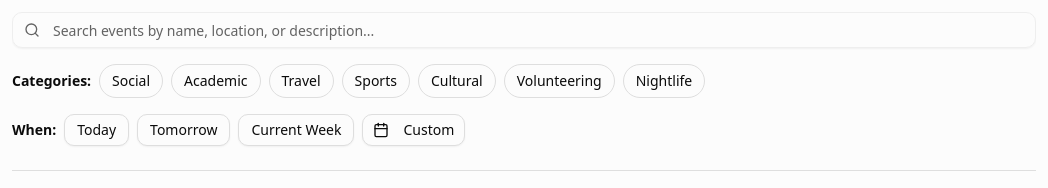
Scenario: EventFilters › Clear All Button › should clear search input after reset
Type "test" into the field with placeholder "Search events by name, location, or description..." at coordinates (524, 30), box [12,12,1036,48]
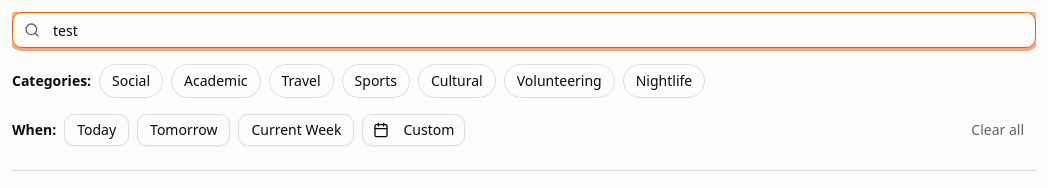
# Clear all button only appears when filters are active
Click the button "Clear all" at coordinates (998, 130), box [959,114,1036,146]
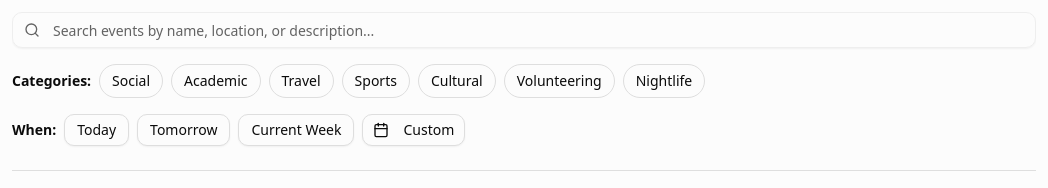
Expected: the field with placeholder "Search events by name, location, or description..." is empty, [12,12,1036,48]
